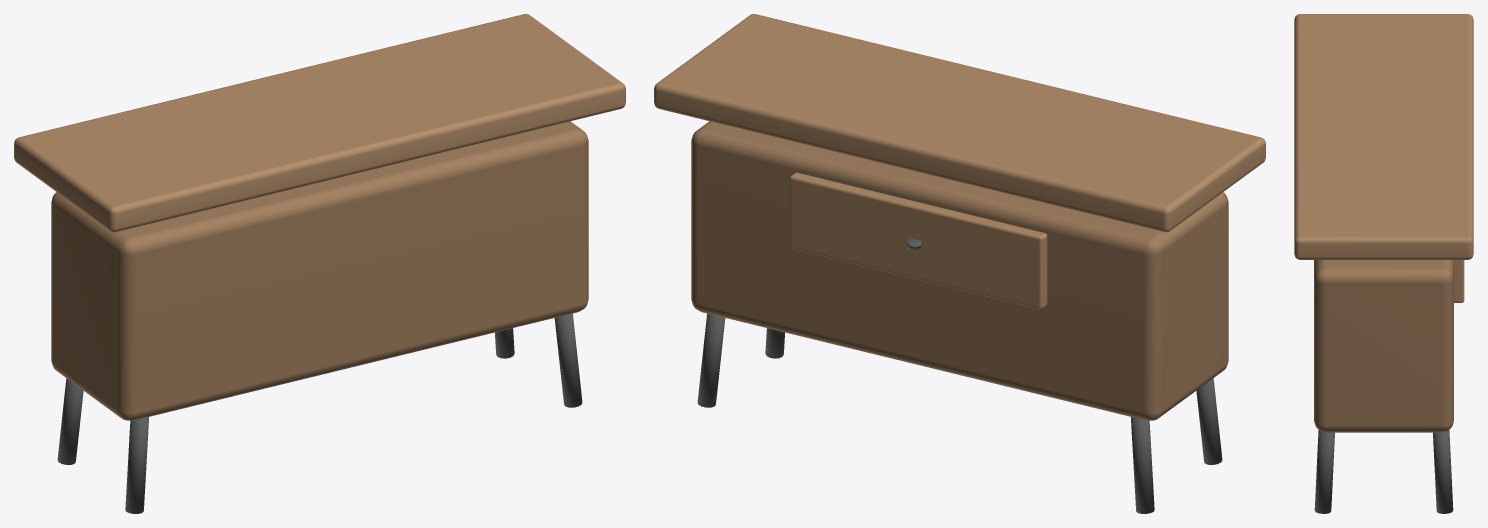
The model's file is consola-memoria.glb.
The picture shows the model from 3 angles, left to right: view 1: azimuth 30°, elevation 25°; view 2: azimuth 150°, elevation 25°; view 3: azimuth 270°, elevation 25°; orthographic projection. The views are drawn at different scales.
Visible parts, largest first — view 1: Corpo inferior da consola, Tampo largo da consola, Perna alta da consola, Perna alta da consola.002, Perna alta da consola.001; view 2: Corpo inferior da consola, Tampo largo da consola, Gaveta central da consola, Perna alta da consola.001, Perna alta da consola.003, Perna alta da consola; view 3: Tampo largo da consola, Corpo inferior da consola, Perna alta da consola.002, Perna alta da consola.003, Gaveta central da consola.
Boxes of the visible parts, x1,y1,x2,y2 form: Corpo inferior da consola: [51, 121, 588, 420]; Tampo largo da consola: [14, 14, 625, 232]; Perna alta da consola: [125, 417, 148, 513]; Perna alta da consola.002: [554, 313, 582, 407]; Perna alta da consola.001: [57, 378, 83, 464]; Corpo inferior da consola: [691, 121, 1228, 420]; Tampo largo da consola: [654, 14, 1265, 232]; Gaveta central da consola: [790, 172, 1047, 308]; Perna alta da consola.001: [1131, 417, 1154, 513]; Perna alta da consola.003: [697, 313, 725, 407]; Perna alta da consola: [1196, 378, 1222, 464]; Tampo largo da consola: [1294, 14, 1473, 259]; Corpo inferior da consola: [1314, 260, 1453, 432]; Perna alta da consola.002: [1314, 430, 1334, 513]; Perna alta da consola.003: [1433, 430, 1453, 513]; Gaveta central da consola: [1454, 260, 1464, 302].
Size of the model in its own units: 1.16 by 0.6907 by 0.3864.
